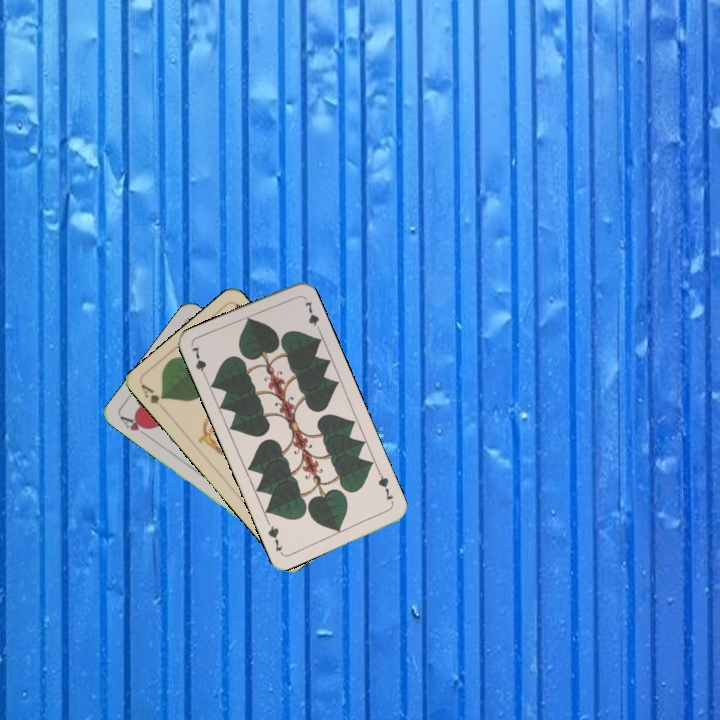G7: (188, 342, 210, 382), (374, 468, 396, 507)
GA: (137, 380, 168, 407)
HA: (116, 412, 152, 440)
